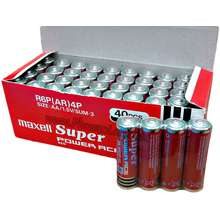Battery: (183, 117, 213, 193), (160, 116, 188, 192), (114, 114, 139, 191), (138, 115, 162, 191)
